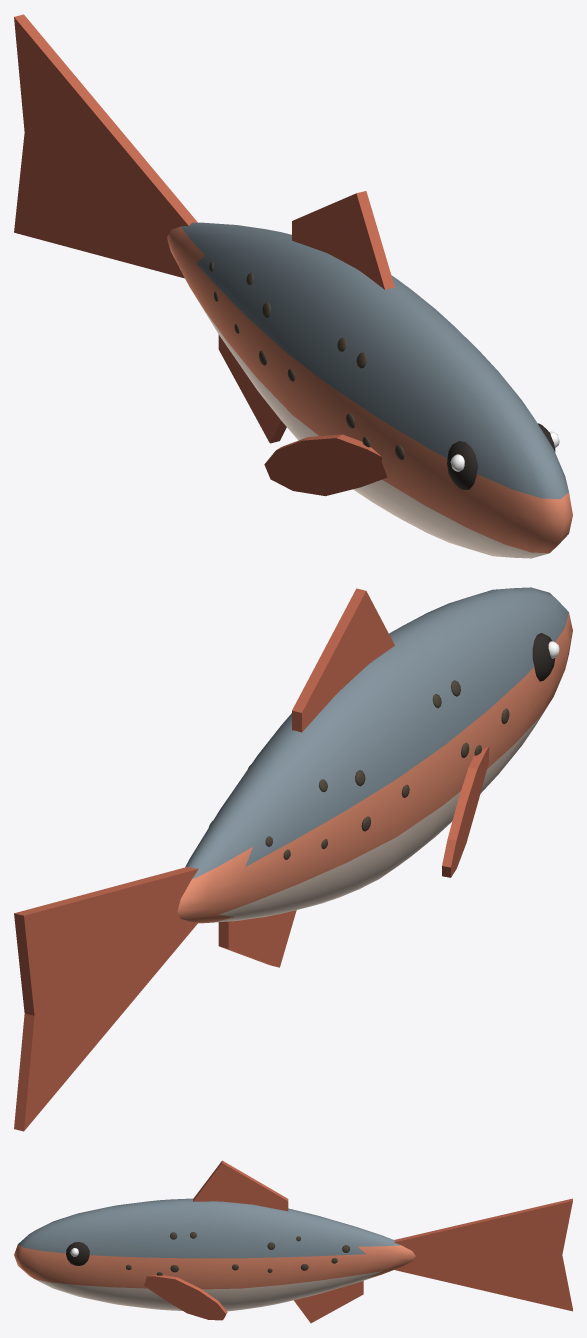
File: fish-salmon.glb
3 views of the same model, one above another, from view 1: azimuth 30°, elevation 25°; view 2: azimuth 150°, elevation 25°; view 3: azimuth 270°, elevation 25° (orthographic). The views are drawn at different scales.
Visible parts, largest first — view 1: fish; view 2: fish; view 3: fish.
Part boxes in pixels (<box>): fish: <box>14,14,572,558</box>; fish: <box>14,587,572,1131</box>; fish: <box>14,1160,572,1323</box>.
Size of the model in its own units: 0.1125 by 0.1807 by 0.57.
